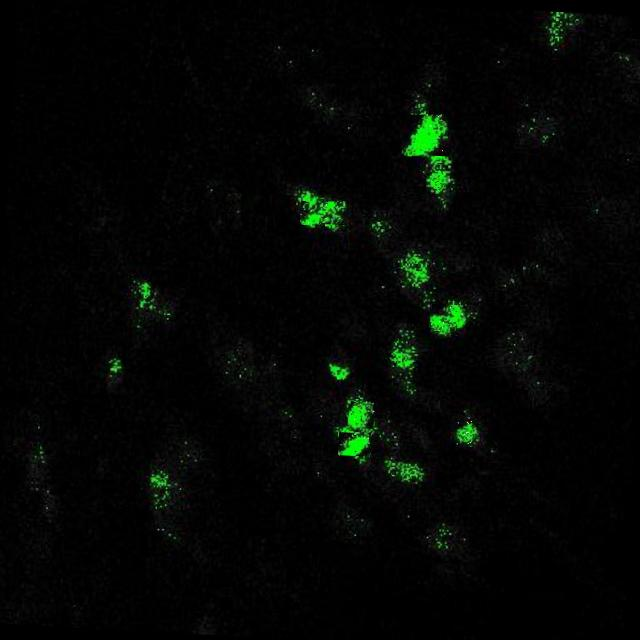Cell: (399, 113, 452, 158), (428, 302, 467, 336), (299, 200, 346, 226), (337, 431, 370, 458), (346, 400, 374, 430), (452, 418, 479, 448), (425, 170, 450, 192)
